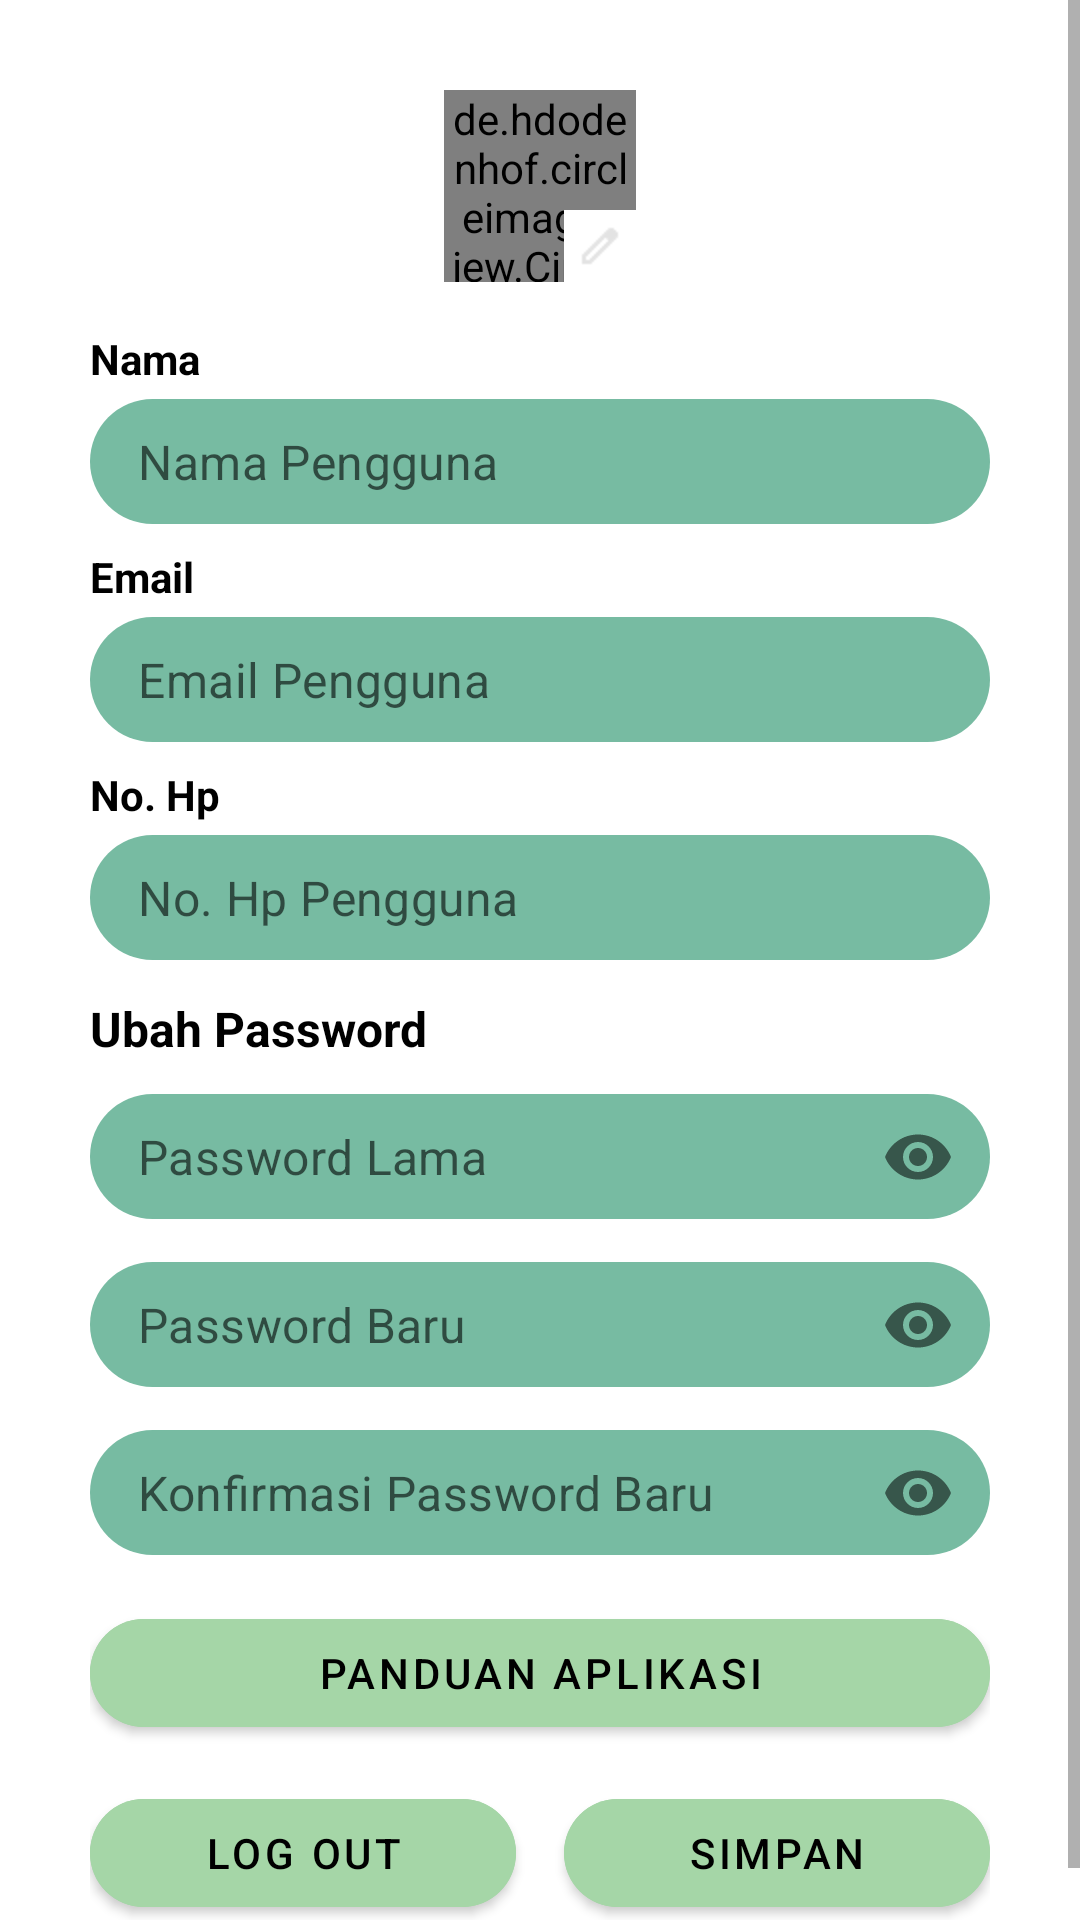

Locate icon controls on the screen. Image size 1080px x 1920px, boxes as (x1, y1, x2, y2).
Edit Foto: (583, 229, 617, 263)
